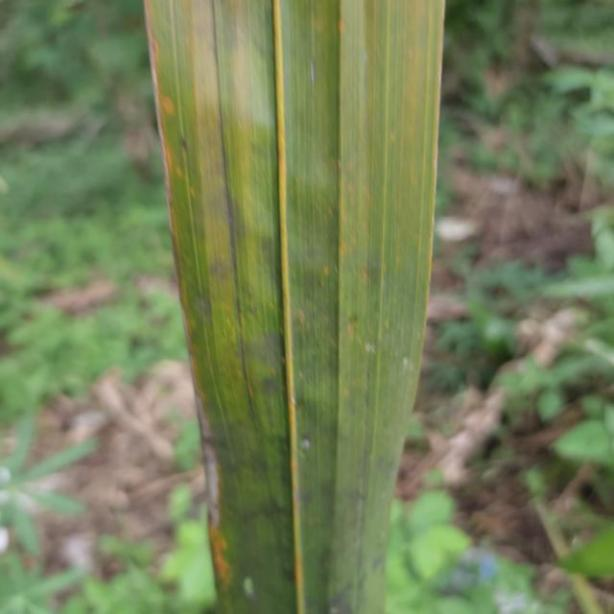Megnesium: (144, 0, 448, 614)
